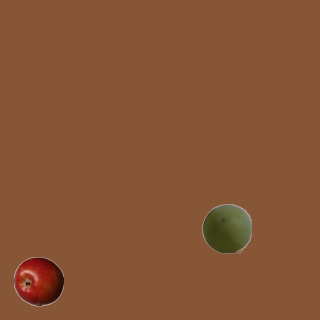Apple Braeburn: (13, 256, 63, 306)
Grape White 4: (201, 203, 251, 253)
